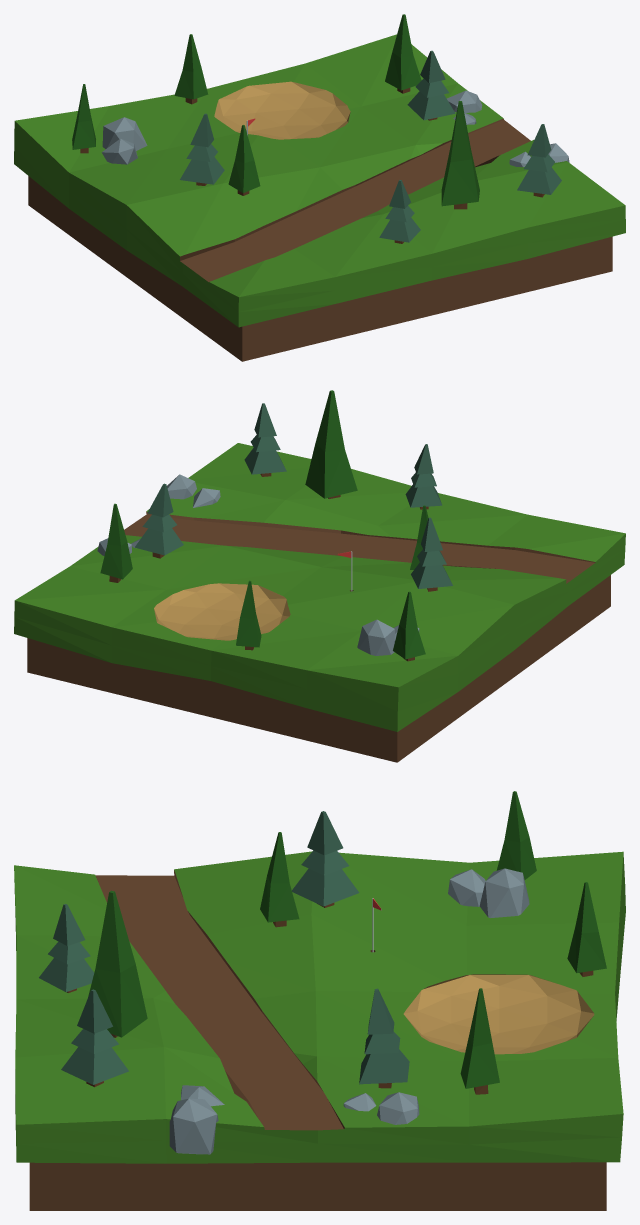
Rendered from golf.glb.
3 renders of one model, top to bottom at view 1: azimuth 30°, elevation 25°; view 2: azimuth 150°, elevation 25°; view 3: azimuth 270°, elevation 25°, orthographic. The views are drawn at different scales.
Parts seen in each view (by area): view 1: Cube, Cube.002, Cube.008, Cube.001, Cube.006, Icosphere, Cube.010, Cube.004, Cube.005, Cube.009, Cube.007, Icosphere.001 (+1 smaller); view 2: Cube, Cube.002, Cube.008, Cube.001, Cube.006, Cube.010, Cube.004, Cube.007, Icosphere, Cube.009, Icosphere.002; view 3: Cube, Cube.002, Cube.001, Cube.006, Icosphere, Cube.008, Icosphere.002, Cube.004, Cube.010, Cube.009, Cube.005, Cube.007 (+1 smaller).
Boxes of the visible parts, <box> form: Cube: <box>14,34,625,361</box>; Cube.002: <box>441,101,479,209</box>; Cube.008: <box>407,50,455,120</box>; Cube.001: <box>517,124,561,197</box>; Cube.006: <box>180,113,224,185</box>; Icosphere: <box>102,117,147,164</box>; Cube.010: <box>385,14,421,93</box>; Cube.004: <box>379,180,420,243</box>; Cube.005: <box>228,125,260,195</box>; Cube.009: <box>174,34,208,104</box>; Cube.007: <box>72,84,95,153</box>; Icosphere.001: <box>447,90,482,124</box>; Cube: <box>14,443,625,762</box>; Cube.002: <box>305,390,357,498</box>; Cube.008: <box>134,483,183,558</box>; Cube.001: <box>244,403,286,476</box>; Cube.006: <box>411,517,452,591</box>; Cube.010: <box>100,503,132,582</box>; Cube.004: <box>405,444,442,509</box>; Cube.007: <box>393,591,425,661</box>; Icosphere: <box>357,619,419,655</box>; Cube.009: <box>236,580,261,650</box>; Icosphere.002: <box>167,474,220,507</box>; Cube: <box>14,851,625,1210</box>; Cube.002: <box>88,890,147,1037</box>; Cube.001: <box>61,989,128,1087</box>; Cube.006: <box>292,811,359,907</box>; Icosphere: <box>448,868,529,917</box>; Cube.008: <box>359,988,409,1088</box>; Icosphere.002: <box>169,1085,224,1154</box>; Cube.004: <box>39,904,94,992</box>; Cube.010: <box>460,988,499,1094</box>; Cube.009: <box>567,882,606,976</box>; Cube.005: <box>260,832,299,927</box>; Cube.007: <box>496,791,536,879</box>.
Bounding box in the file's own units: 6.38 × 2.74 × 6.36.
